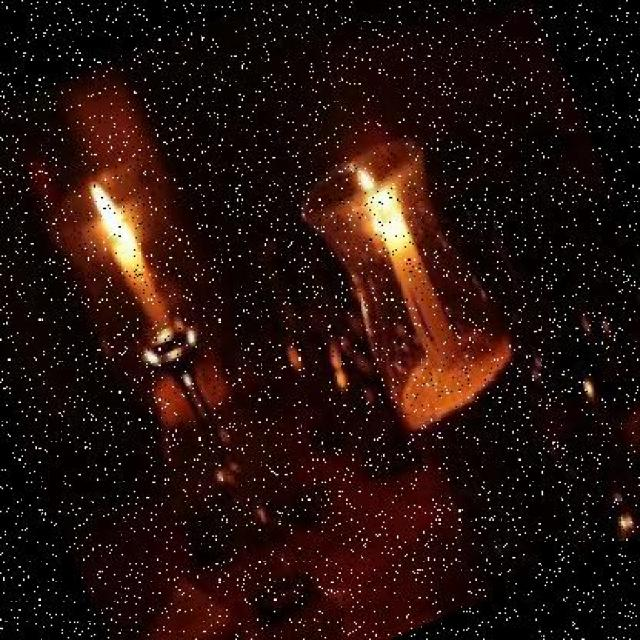fire: (72, 160, 136, 248), (340, 149, 400, 226)
